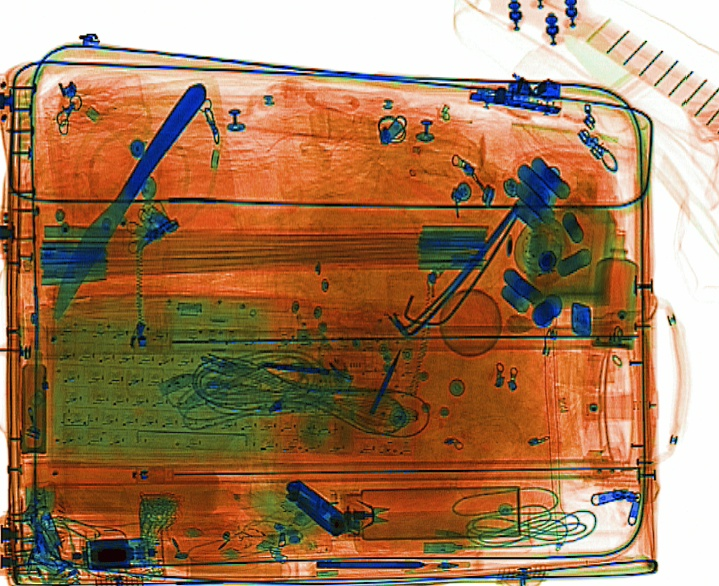knife: (51, 81, 208, 320)
